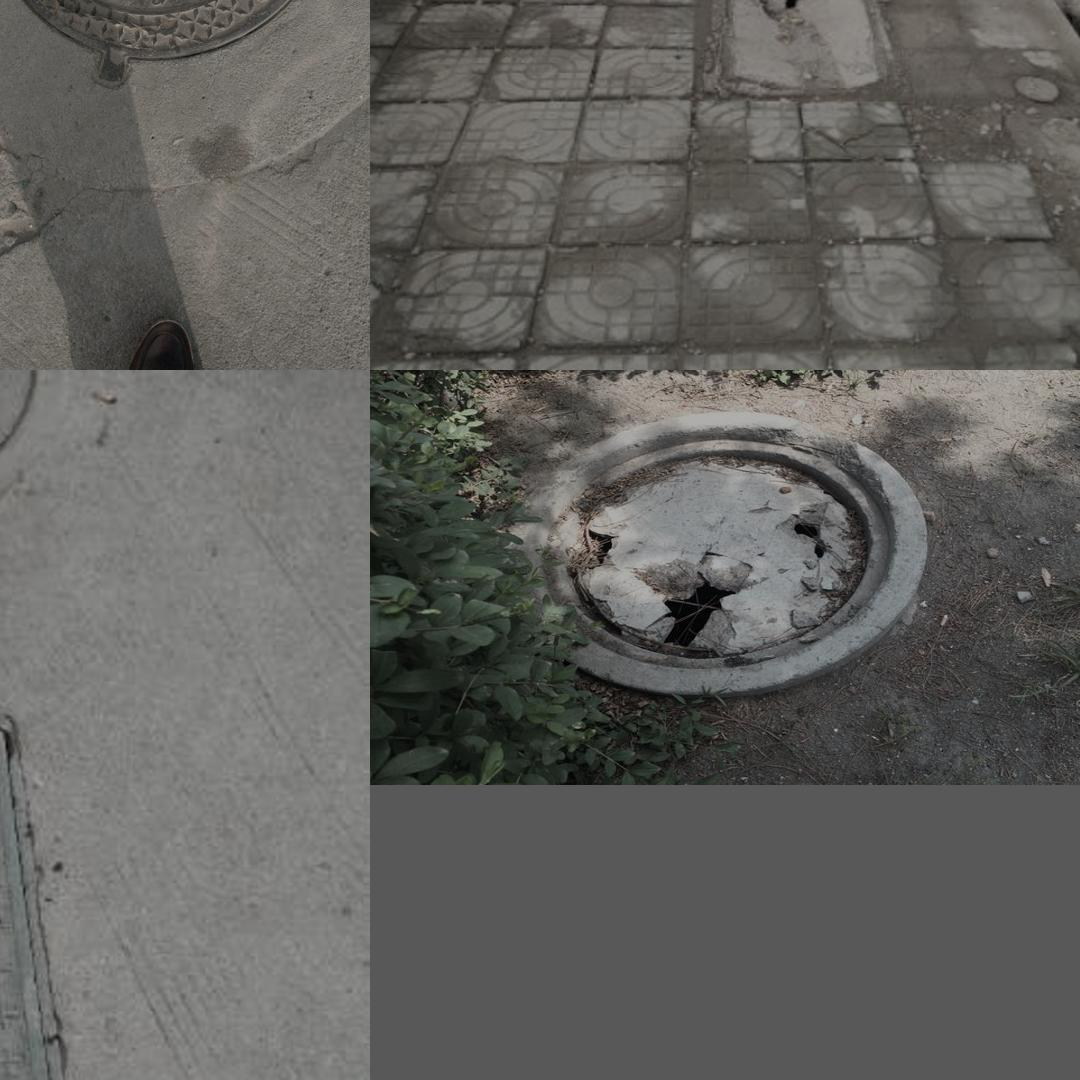broke: (481, 410, 939, 697), (0, 0, 338, 91), (0, 722, 71, 1080), (700, 0, 893, 94)
